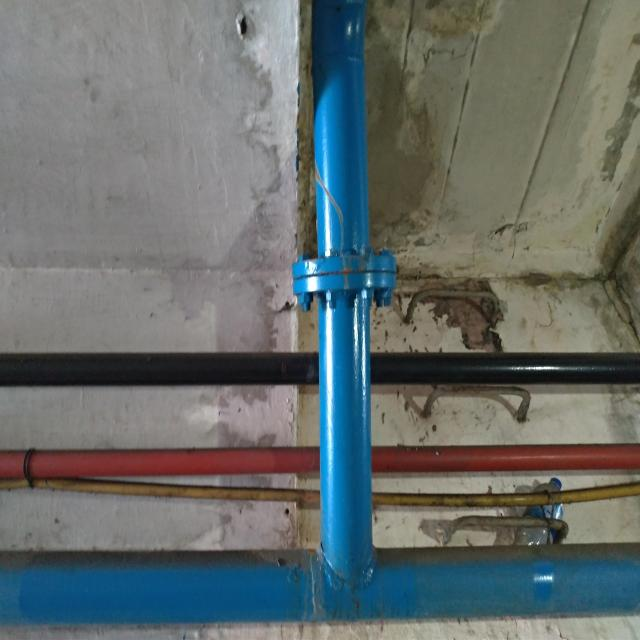gas: (290, 0, 395, 627), (1, 542, 640, 633)
